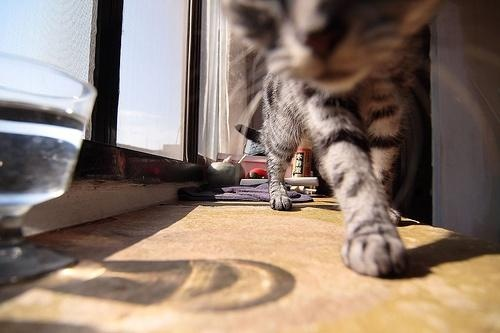cat: (235, 1, 443, 279)
